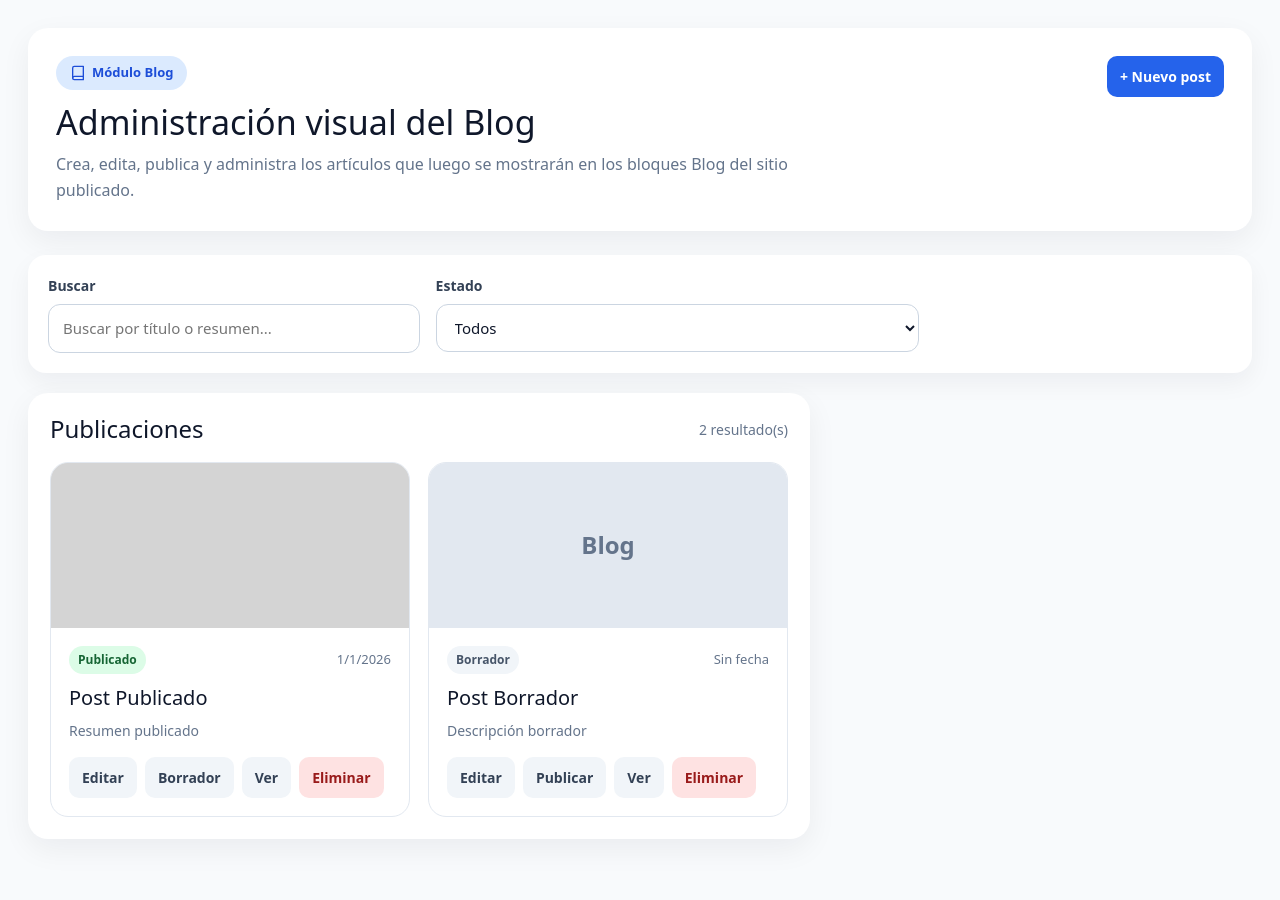
Test: Blog page › deletes a post when confirmed
Check: the heading "Post Publicado" is shown, box left=69, top=684, right=208, bottom=711
Click the button "Eliminar" below "Resumen publicado" at [341, 777], box left=299, top=757, right=384, bottom=798
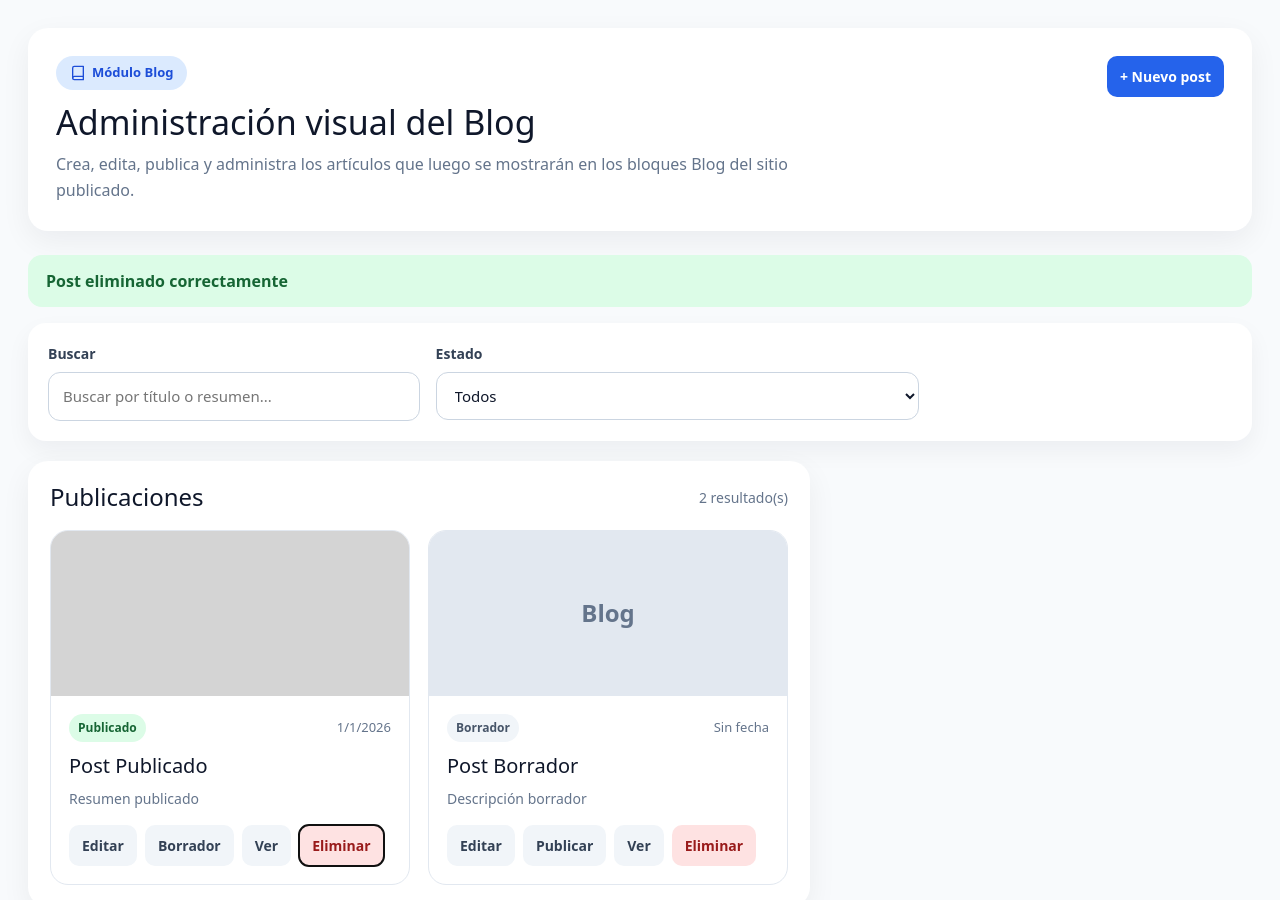
Check: the text "Post eliminado correctamente" is shown, box left=28, top=256, right=1252, bottom=308
